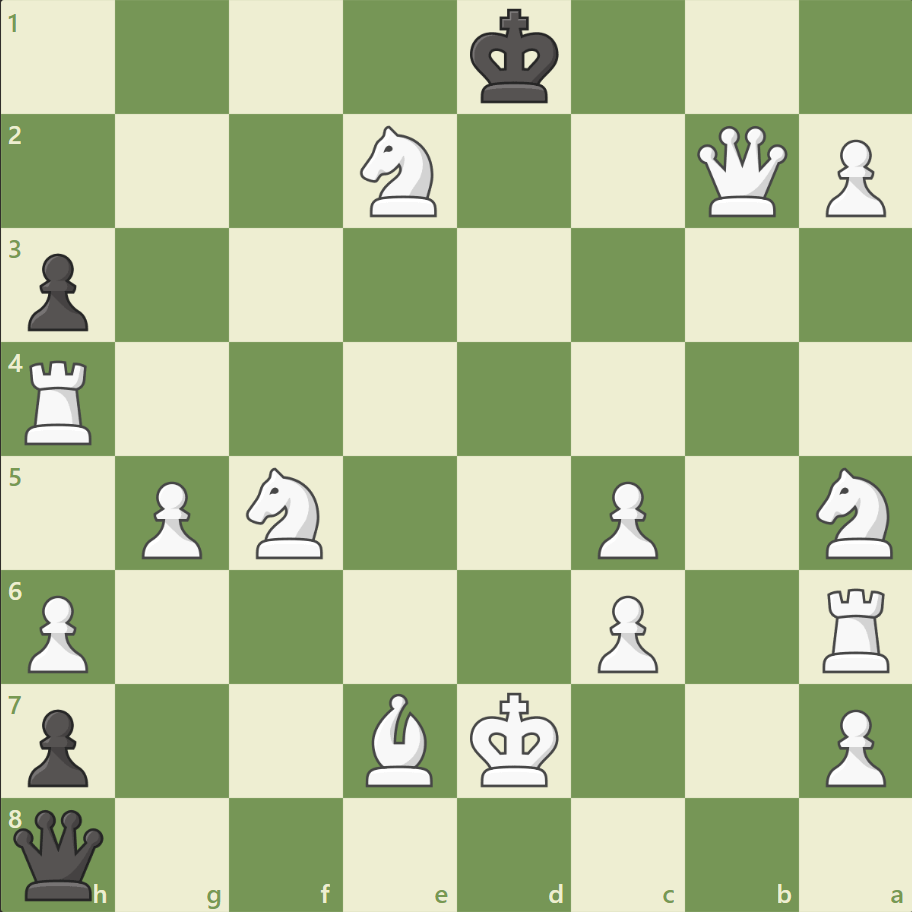B: (358, 687, 442, 790)
K: (465, 685, 565, 793)
N: (351, 121, 449, 223), (806, 461, 903, 564), (238, 461, 335, 564)
P: (20, 586, 95, 677), (133, 473, 208, 564), (815, 700, 889, 791), (588, 586, 662, 677), (588, 473, 662, 564), (815, 132, 889, 223)
Q: (691, 122, 790, 222)
R: (814, 579, 897, 676), (19, 352, 102, 449)
k: (465, 4, 565, 112)
p: (20, 700, 95, 791), (20, 246, 95, 337)
q: (10, 804, 109, 903)
